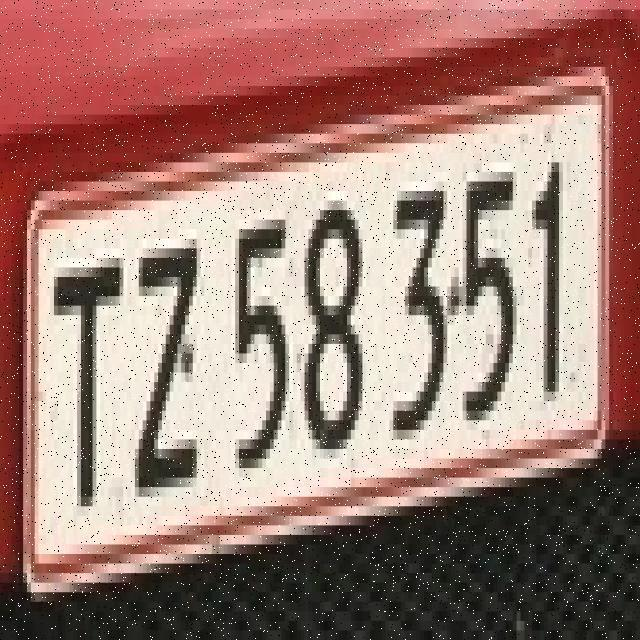LicensePlate: (14, 168, 615, 560)
